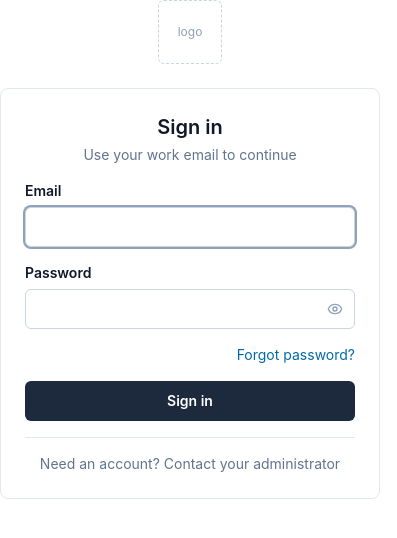
Scenario: LoginPage (client-side email validation) › AC4: submitting with an empty email shows "Email is required" beneath the field and sends no request
The width and height of the screenshot is (397, 538).
Click the button "Sign in": x=190, y=401 [25,381,355,421]
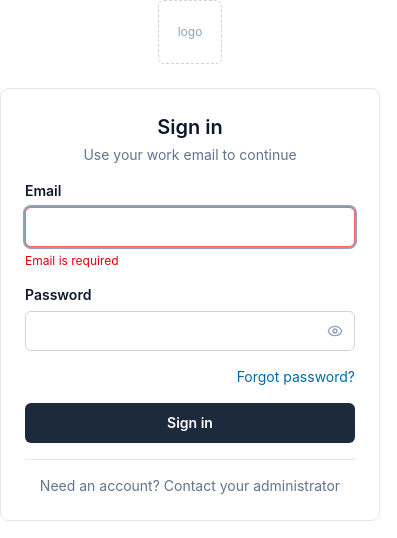
Expected: the text "Email is required" is shown, [25,253,119,268]
